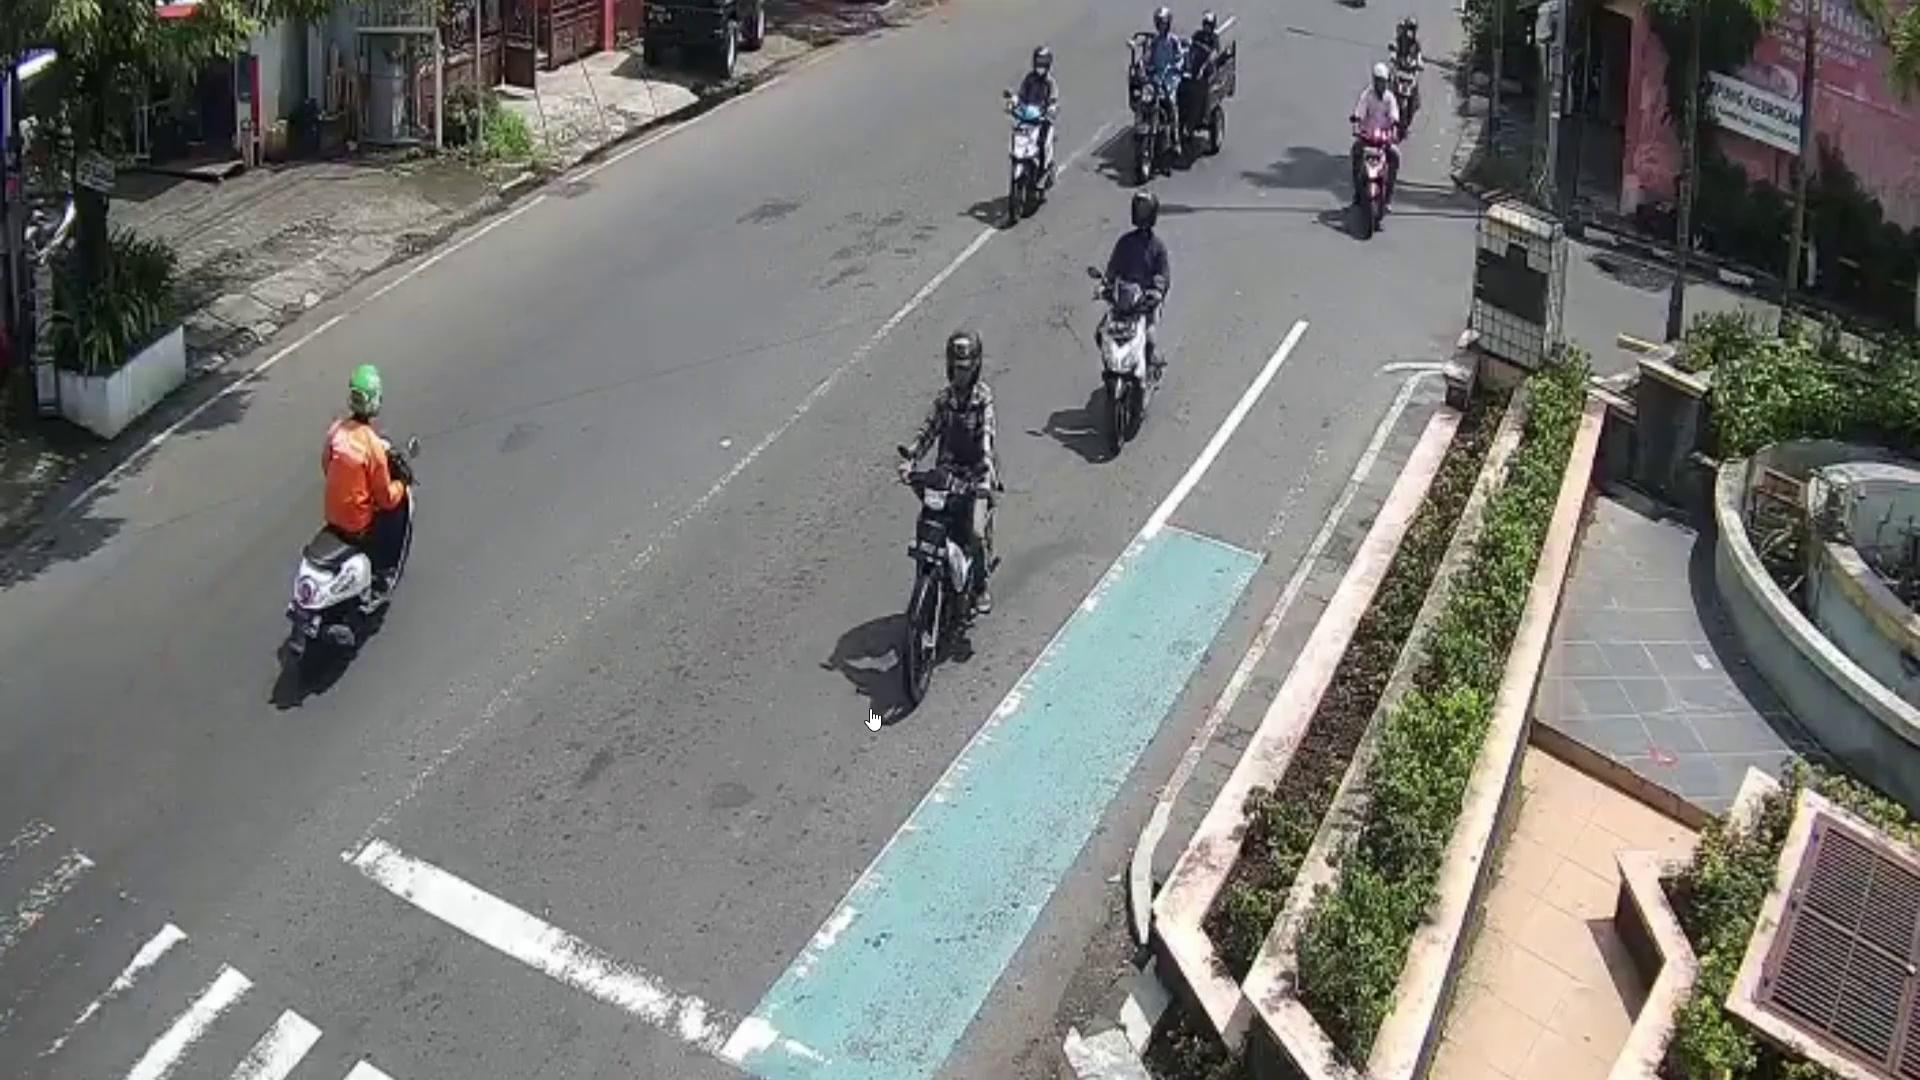motorbike: (287, 435, 414, 684), (894, 460, 993, 702), (1092, 268, 1156, 463), (1350, 108, 1399, 248), (1127, 67, 1182, 183), (1007, 99, 1058, 220)
